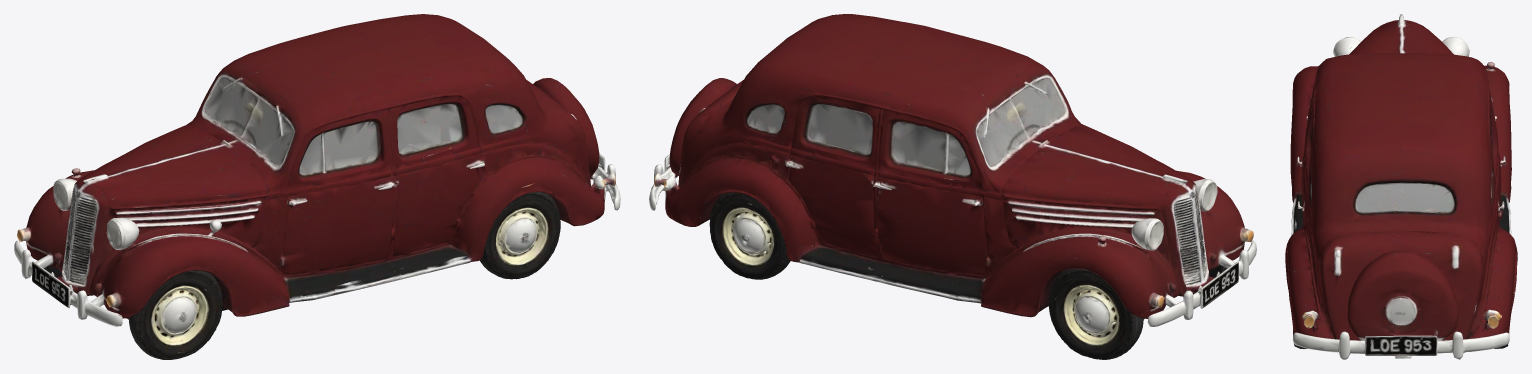
File: v8-pilot-SHRINK.glb
3 views of the same model, side by side, from view 1: azimuth 30°, elevation 25°; view 2: azimuth 150°, elevation 25°; view 3: azimuth 270°, elevation 25° (orthographic). The views are drawn at different scales.
Parts seen in each view (by area): view 1: object 1, Wheel_FL, Wheel_RL; view 2: object 1, Wheel_FR, Wheel_RR; view 3: object 1.
Part boxes in pixels (box(x1,y1,x2,y2)): object 1: box(14, 14, 620, 326); Wheel_FL: box(129, 267, 233, 359); Wheel_RL: box(475, 192, 569, 279); object 1: box(649, 14, 1256, 326); Wheel_FR: box(1037, 267, 1143, 359); Wheel_RR: box(699, 192, 794, 279); object 1: box(1285, 14, 1517, 359).
Bounding box in the file's own units: 1.9 × 0.7205 × 0.7324.
Materials: 1 (1 with a texture image).
